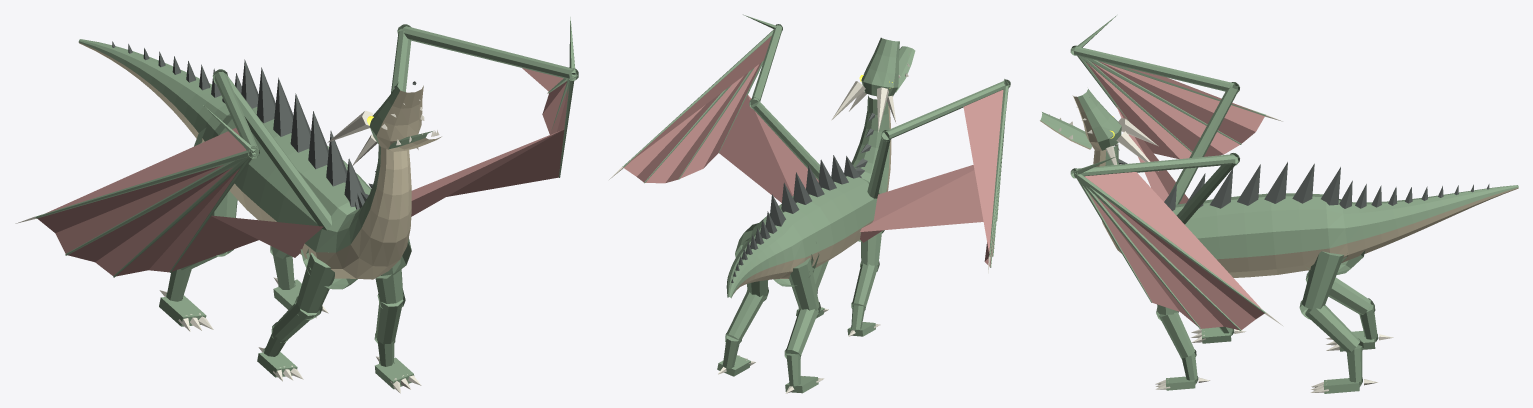
The model's file is dragons-and-wyverns-western-dragon-roaring-c8c275ce__36702.glb.
3 renders of one model, left to right at view 1: azimuth 30°, elevation 25°; view 2: azimuth 150°, elevation 25°; view 3: azimuth 270°, elevation 25°, orthographic. The views are drawn at different scales.
Visible parts, largest first — view 1: western-dragon-roaring; view 2: western-dragon-roaring; view 3: western-dragon-roaring.
Boxes of the visible parts, x1,y1,x2,y2 form: western-dragon-roaring: [15, 17, 578, 393]; western-dragon-roaring: [609, 14, 1010, 393]; western-dragon-roaring: [1040, 15, 1518, 393].
Size of the model in its own units: 5.99 by 3.91 by 5.92.
